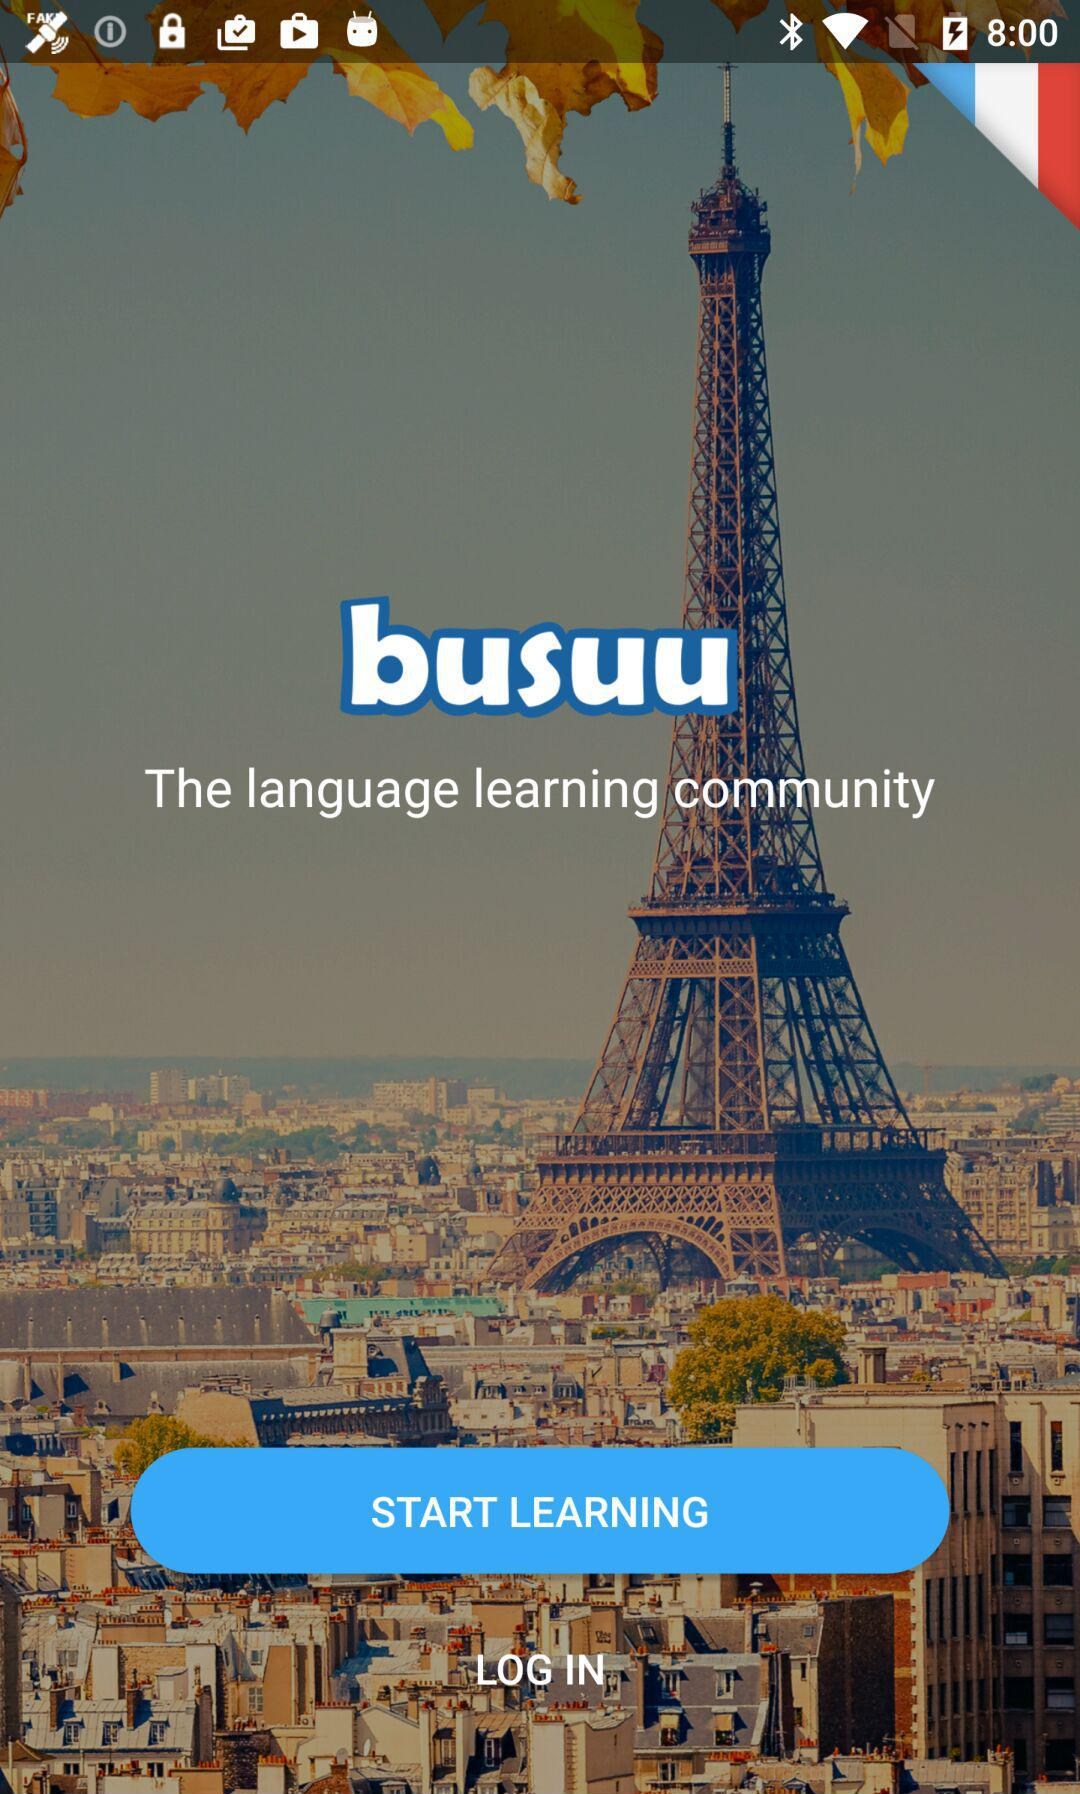BackgroundImage: (1, 64, 1080, 1794)
Image: (340, 595, 740, 720)
Text: (143, 765, 937, 823), (477, 1653, 605, 1686)
TextButton: (131, 1448, 951, 1574)
UpperTaskBar: (1, 1, 1080, 64)
